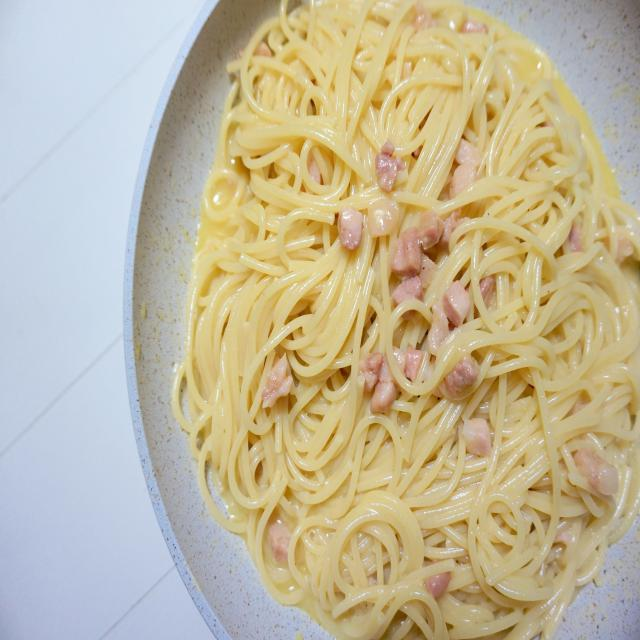Pasta with carbonara sauce: (180, 9, 638, 599)
